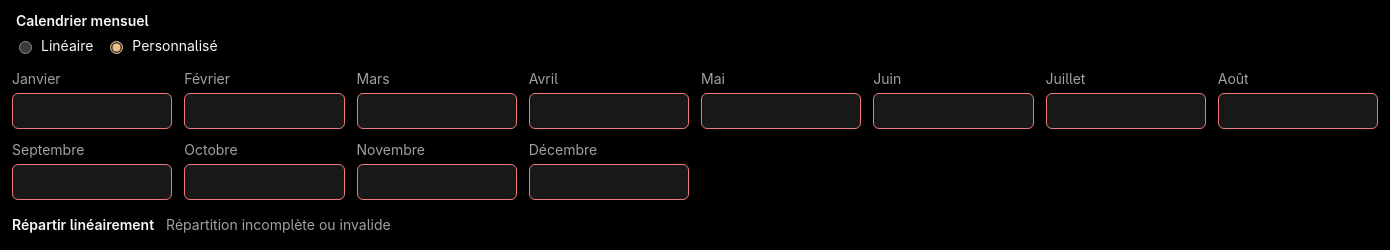
Test: GoalScheduleEditor › ignores a preview response made stale by a schedule edit
Click the button "Répartir linéairement" at (83, 224), box x1=12 y1=216 x2=154 y2=233
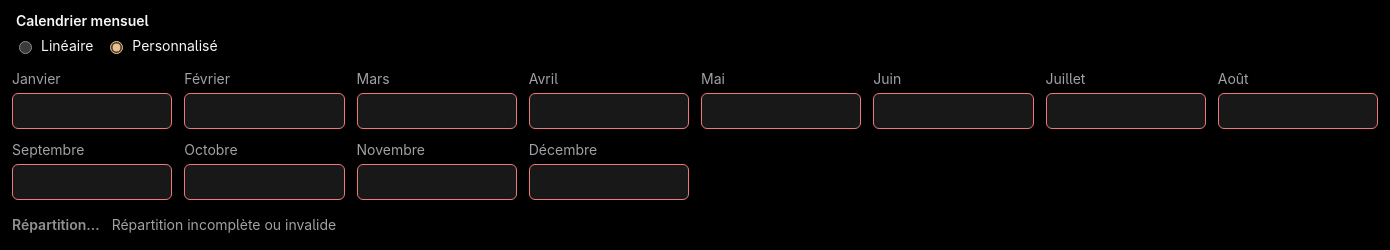
Type "99.00" into the field named "Montant de janvier" at (92, 111), box x1=12 y1=93 x2=172 y2=129
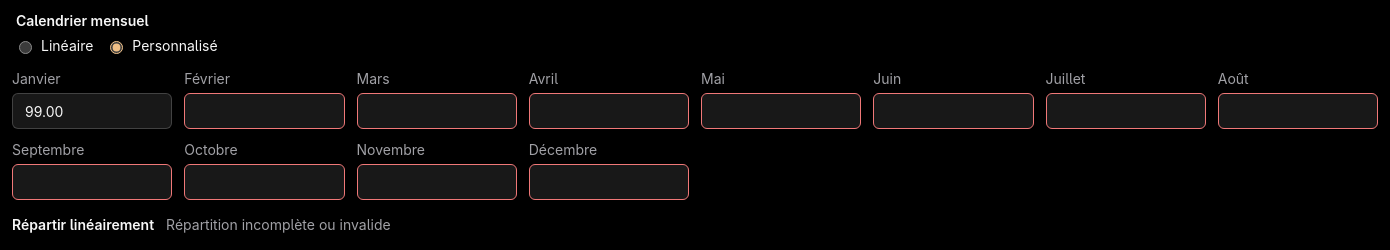
Expected: the button "Répartir linéairement" is shown, x1=12 y1=216 x2=154 y2=233
